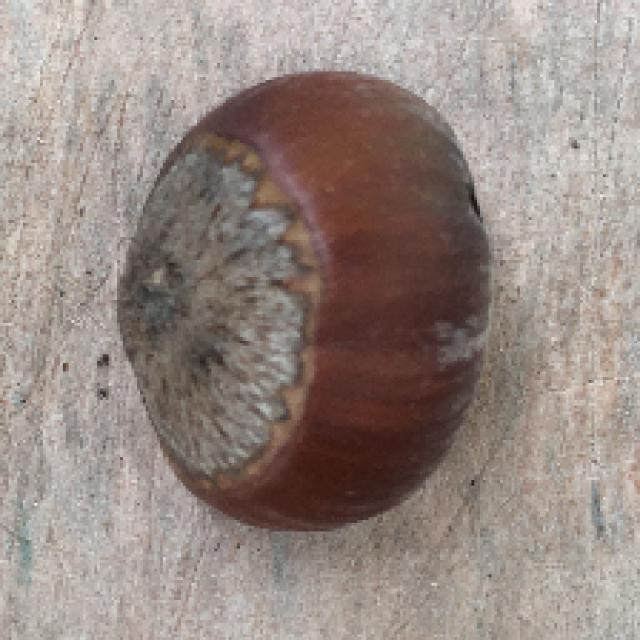DamagedHazelnut: (114, 72, 497, 530)
